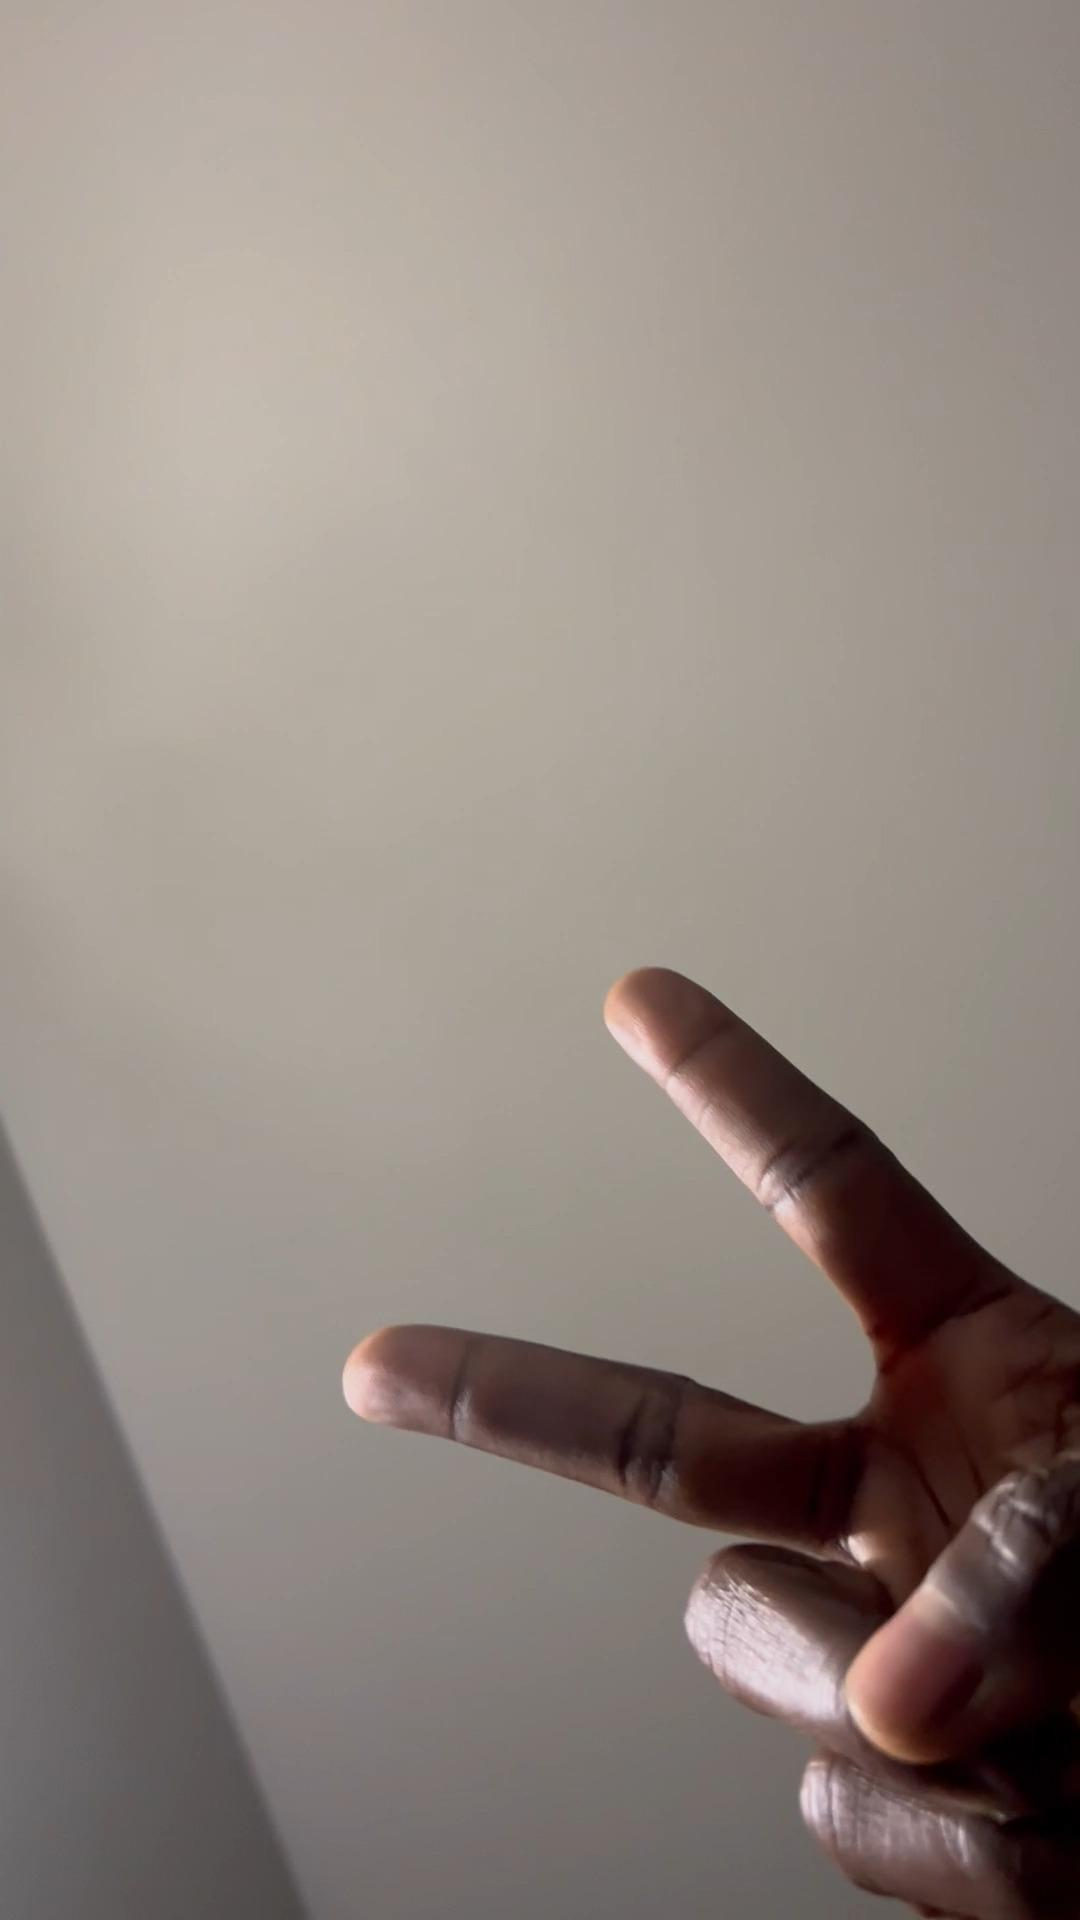Scissors: (343, 963, 1080, 1920)
